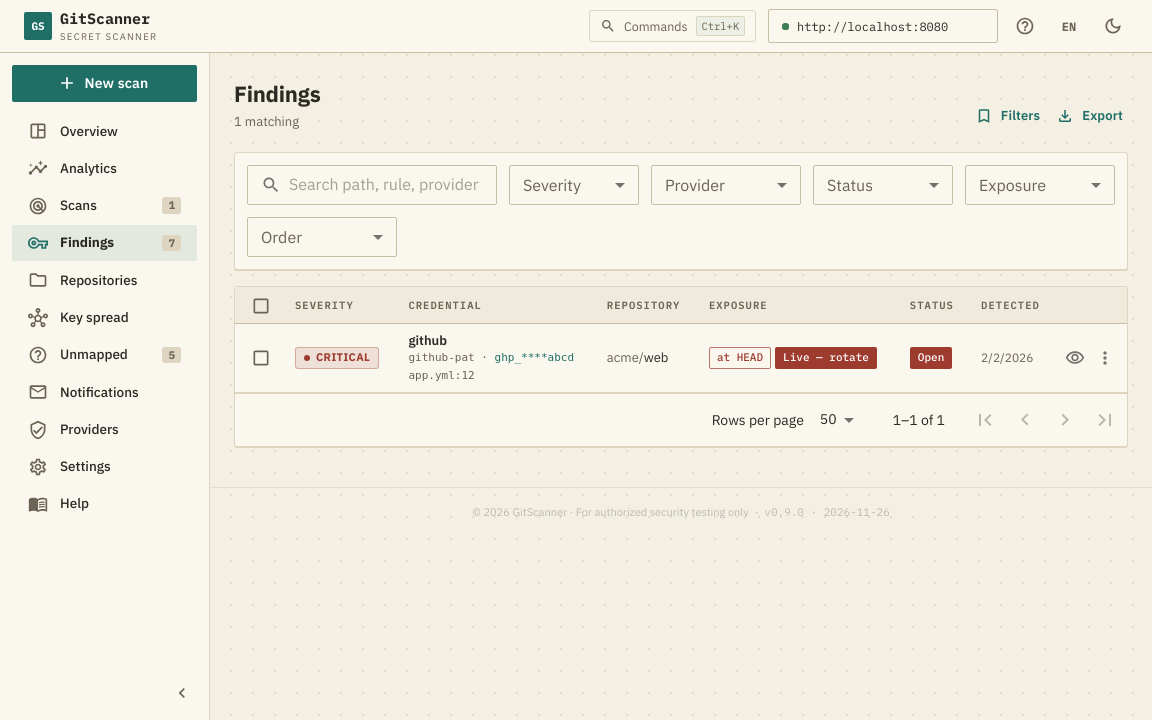
findings › selects a row and offers bulk actions
Click the checkbox named "github — config/app.yml" at (261, 358), box [251, 348, 271, 368]
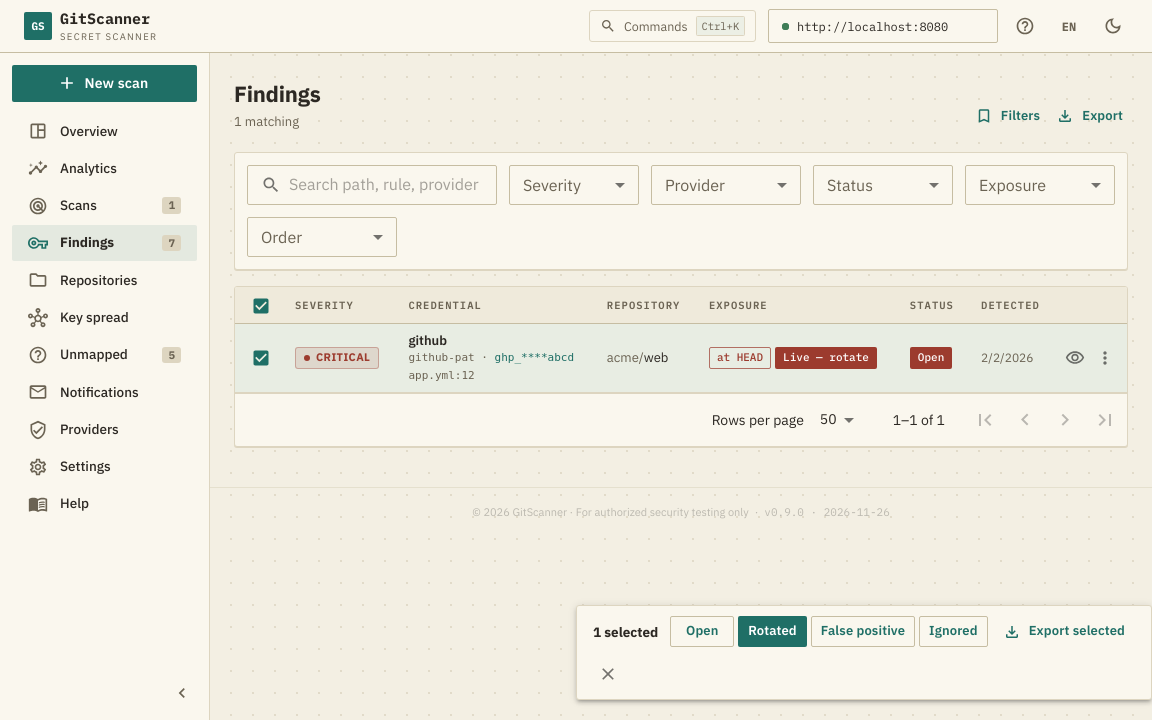
expect the text "1 selected" is shown: met, box [593, 622, 658, 642]
